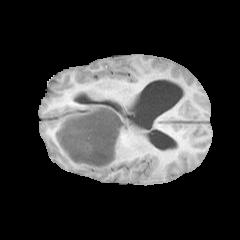glioma: (53, 104, 130, 172)
